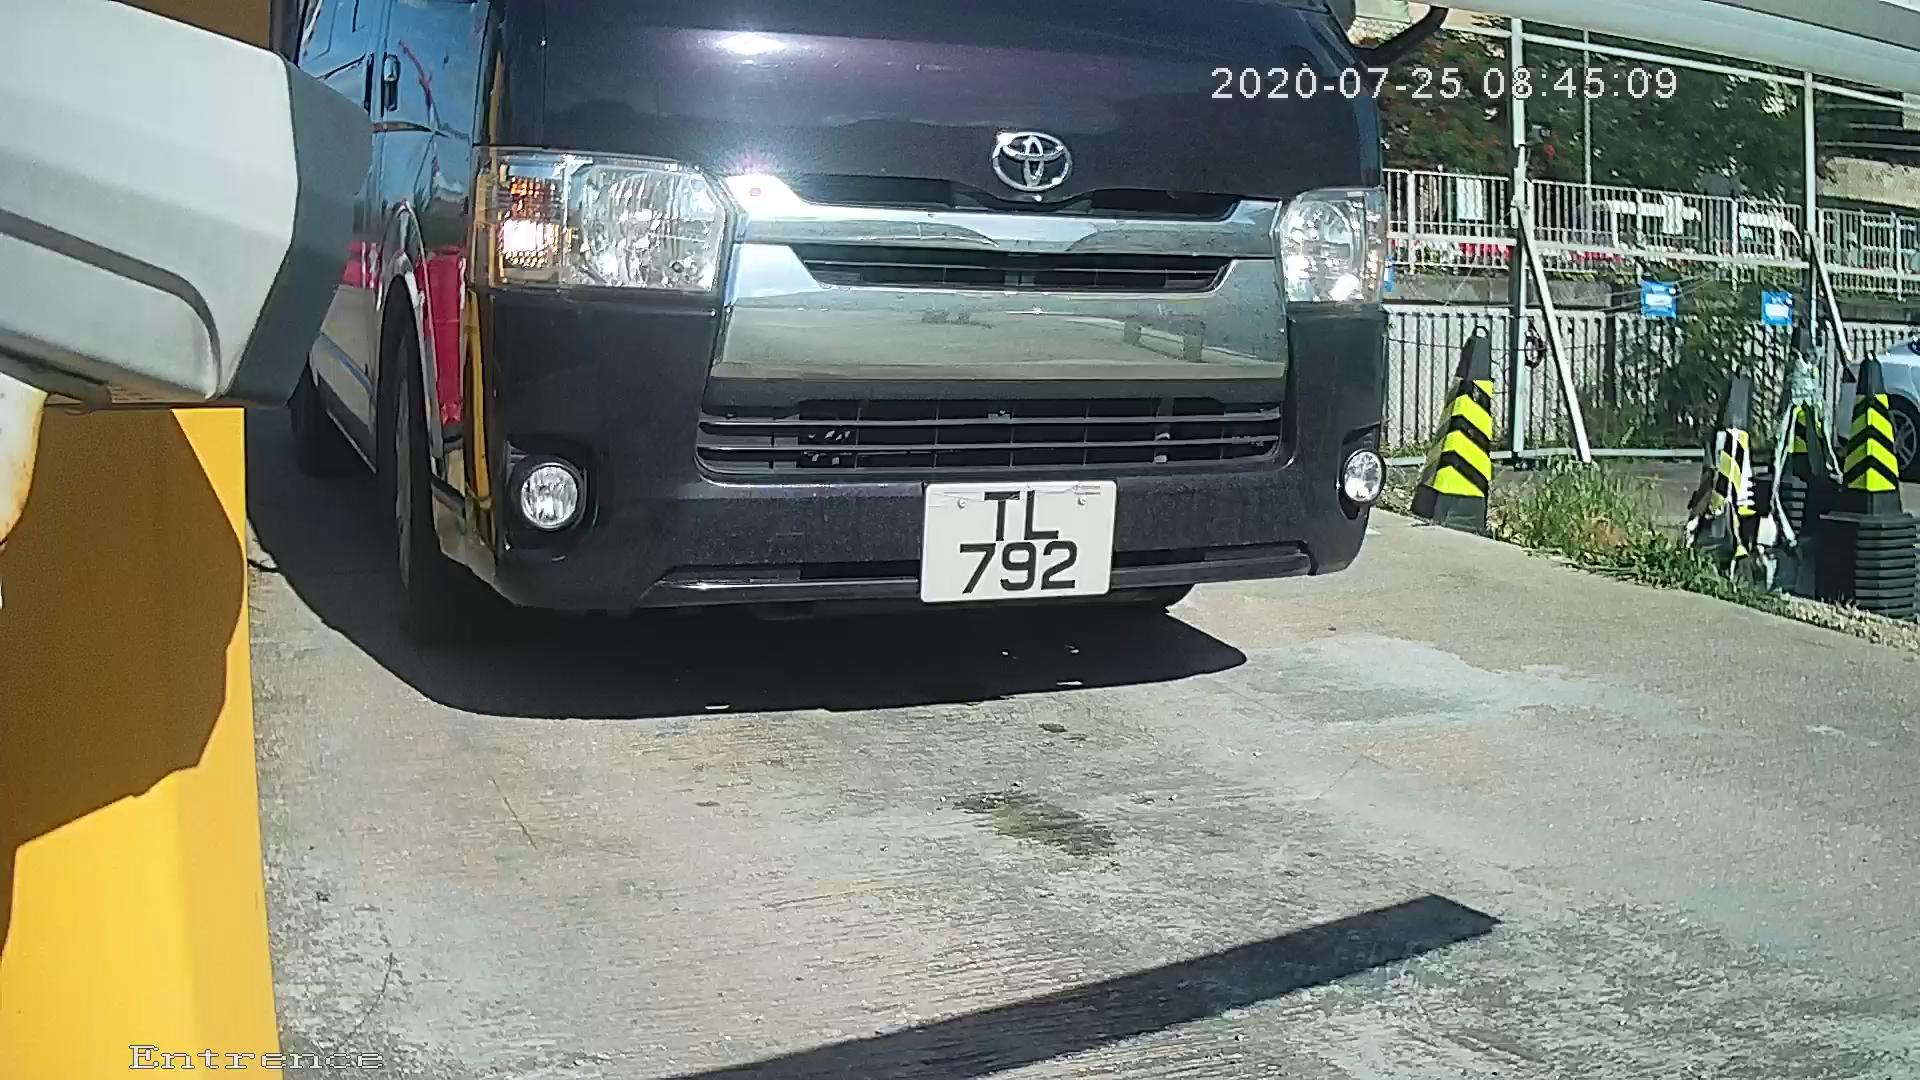Car: (155, 1, 1526, 748)
License Plate: (892, 483, 1141, 608)
